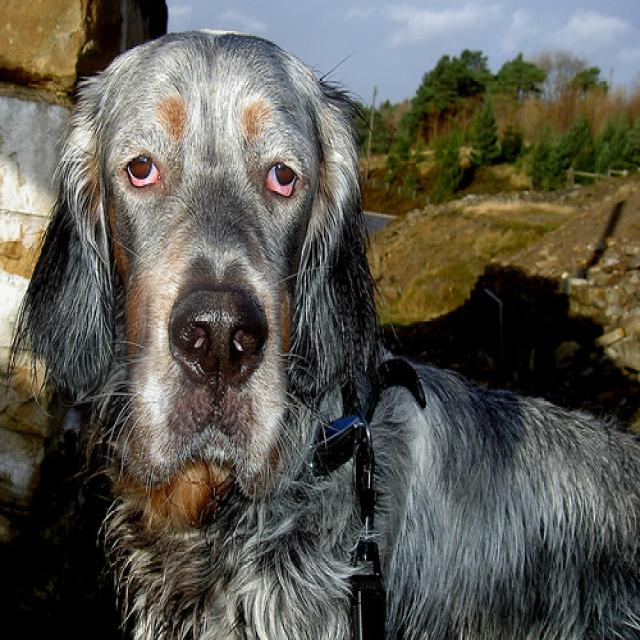dog-english_setter: (19, 15, 637, 637)
